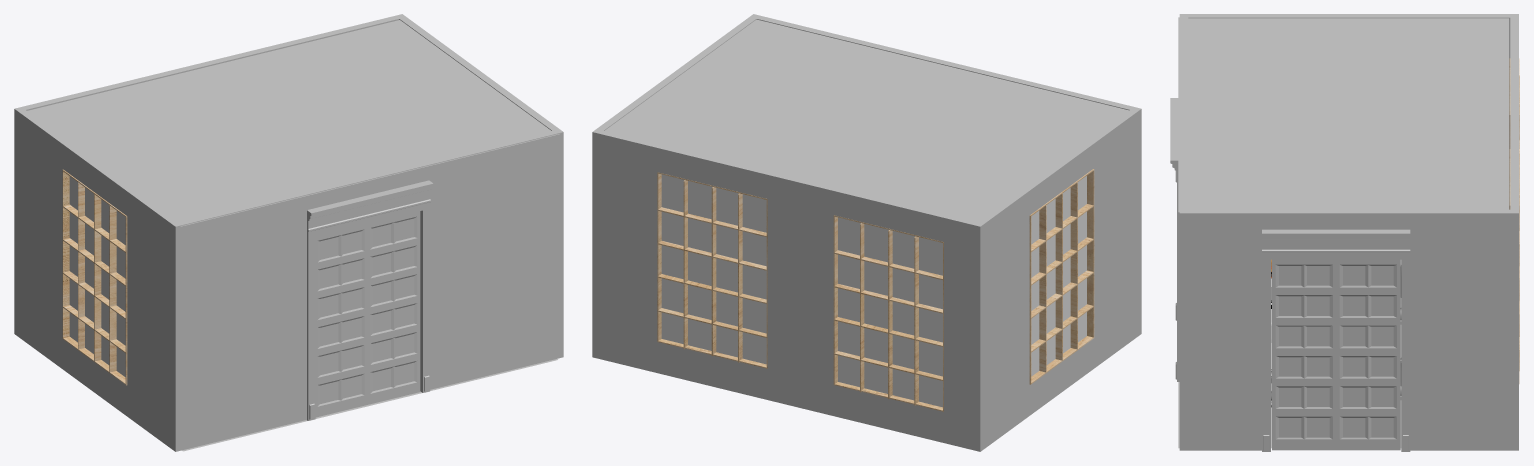
The model's file is CUARTO 1.fbx.
3 views of the same model, side by side, from view 1: azimuth 30°, elevation 25°; view 2: azimuth 150°, elevation 25°; view 3: azimuth 270°, elevation 25° (orthographic). The views are drawn at different scales.
Parts seen in each view (by area): view 1: Rectangle014, Plane065, Plane052, Plane047, Box127, Plane050, Rectangle011, Line015, Line016, Line017, Plane045; view 2: Rectangle014, Plane065, Plane064, Plane049, Plane050, Rectangle011, Rectangle015, Rectangle009, Line017, Line016, Line015, Line023 (+5 smaller); view 3: Plane065, Rectangle014, Plane063, Plane062, Box151, Box127, Plane045, Rectangle015.
Part boxes in pixels (x1,y1,x2,y2): Rectangle014: [14, 14, 563, 451]; Plane065: [27, 20, 559, 226]; Plane052: [367, 211, 420, 404]; Plane047: [315, 224, 367, 417]; Box127: [307, 180, 433, 420]; Plane050: [69, 176, 125, 377]; Rectangle011: [62, 169, 127, 385]; Line015: [109, 205, 116, 372]; Line016: [94, 194, 101, 361]; Line017: [78, 182, 84, 349]; Plane045: [182, 359, 557, 451]; Rectangle014: [592, 14, 1141, 451]; Plane065: [605, 19, 1129, 221]; Plane064: [661, 174, 766, 364]; Plane049: [838, 217, 942, 407]; Plane050: [1031, 176, 1086, 376]; Rectangle011: [1029, 169, 1094, 384]; Rectangle015: [657, 172, 767, 368]; Rectangle009: [833, 215, 943, 411]; Line017: [1039, 205, 1046, 372]; Line016: [1055, 193, 1062, 360]; Line015: [1070, 182, 1077, 349]; Line023: [711, 187, 716, 356]; Plane065: [1178, 17, 1508, 212]; Rectangle014: [1179, 14, 1518, 450]; Plane063: [1336, 259, 1400, 450]; Plane062: [1272, 259, 1336, 450]; Box151: [1262, 229, 1410, 451]; Box127: [1170, 98, 1179, 381]; Plane045: [1178, 260, 1401, 448]; Rectangle015: [1509, 149, 1519, 383].
Bounding box in the file's own units: 729 × 400 × 528.
